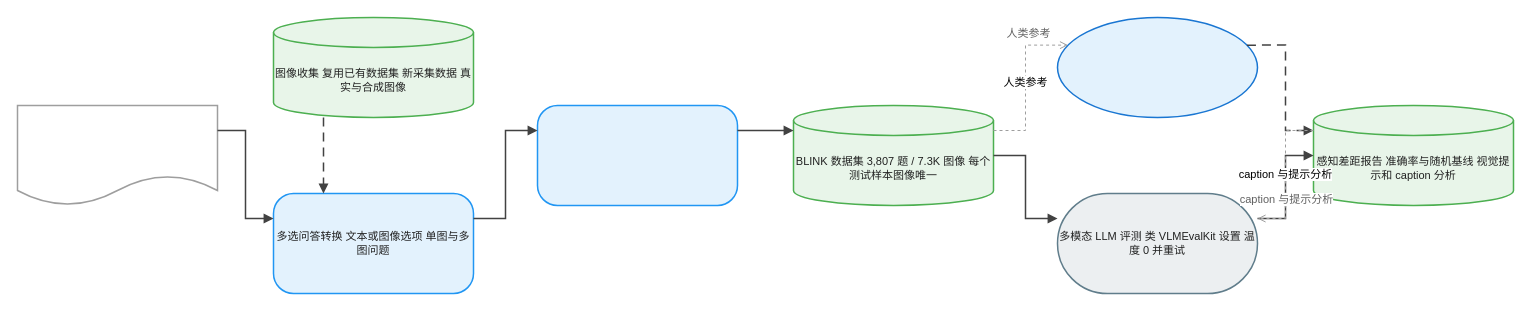
Image size: 1532x312. Some labels were removed from this diagram. Here are the shapes that lost their labels. From the top down, the box of each, then its label:
(1056, 16, 1258, 118): 人类评测 快速视觉感知题 平均准确率 95.70%
(16, 104, 218, 206): 14 个经典 CV 任务 从低层匹配到 3D 推理 超越识别能力
(536, 104, 738, 206): 视觉提示 高亮特定区域 图文交错格式
